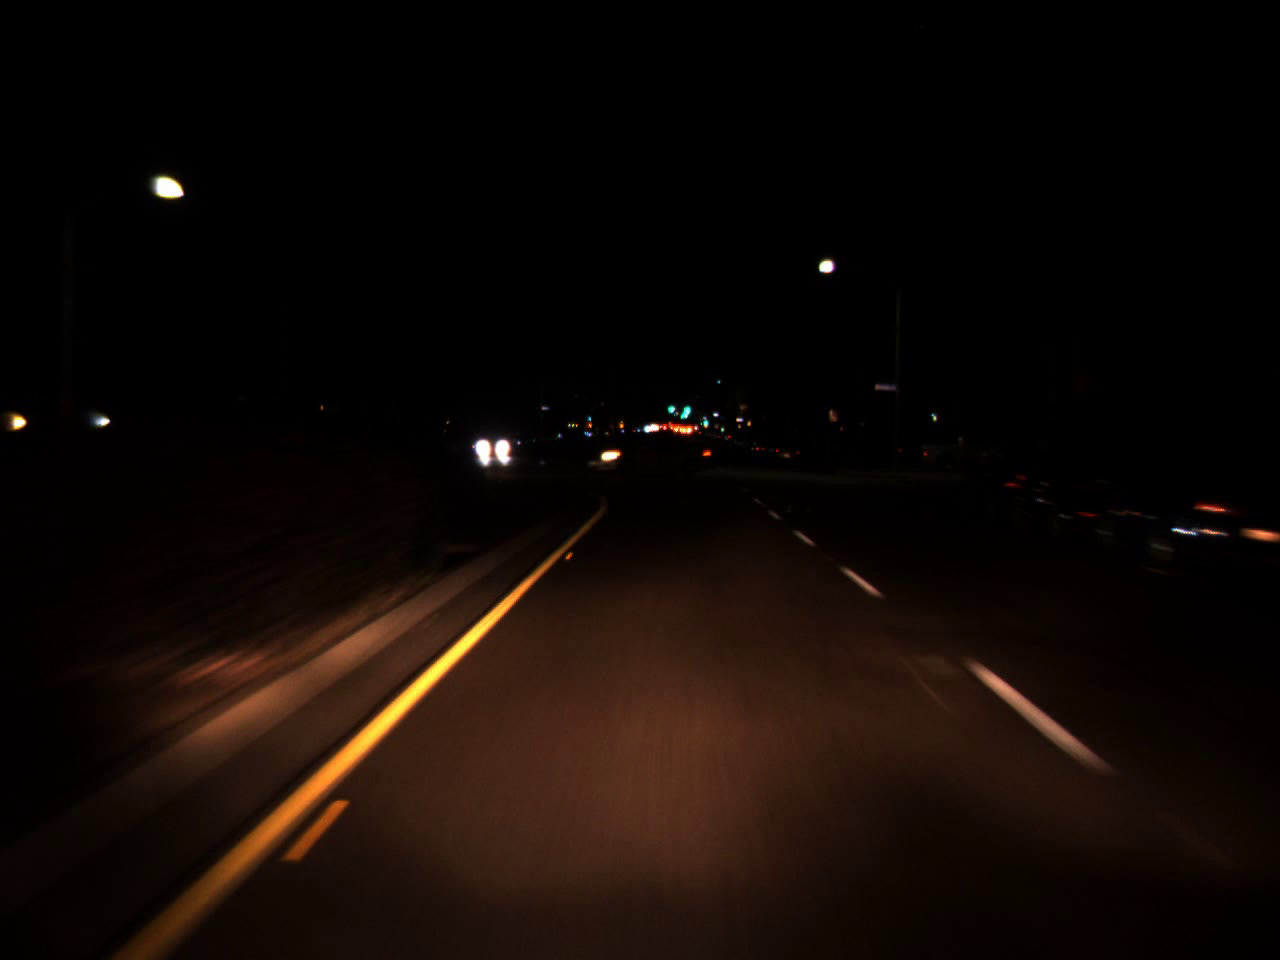go: (678, 395, 692, 419), (665, 398, 675, 416), (702, 415, 709, 427)
